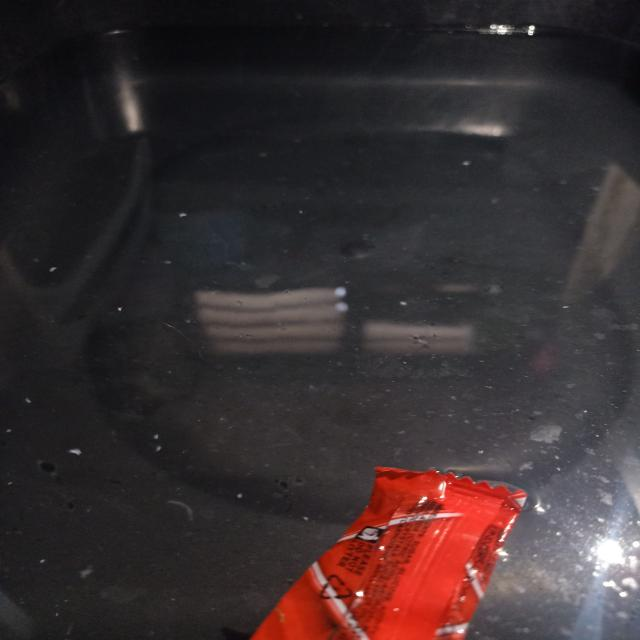Plastic Wrapper: (251, 467, 526, 640)
